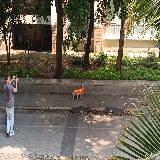fire: (74, 84, 83, 95)
